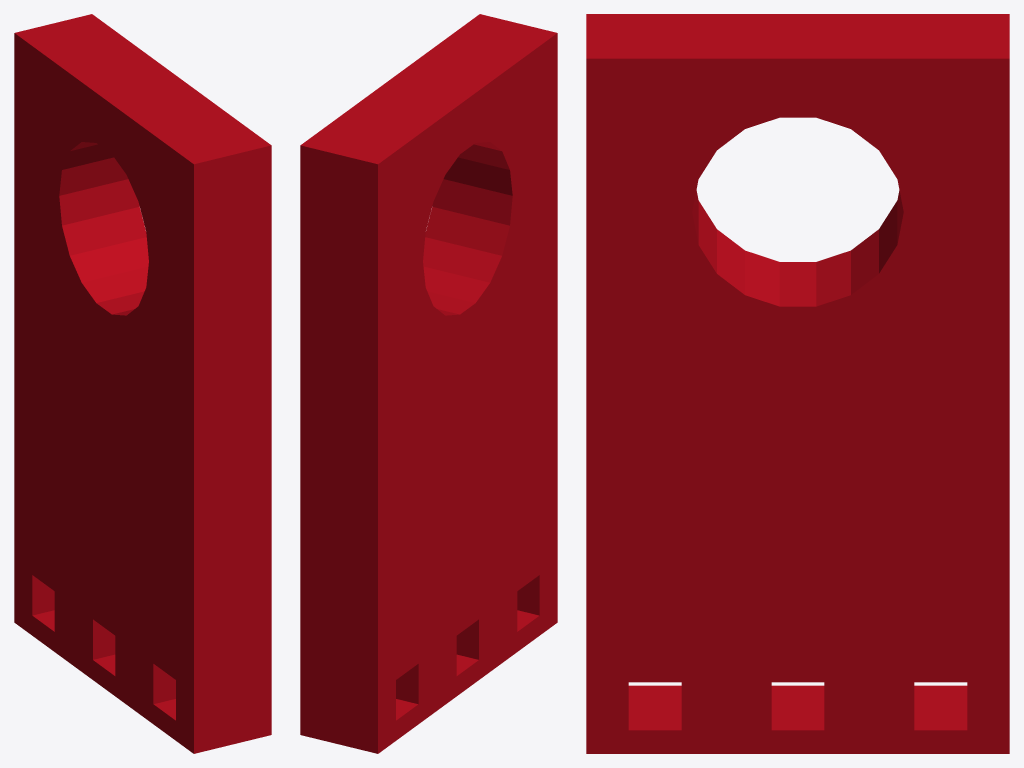
The model's file is reflectance.dae.
3 views of the same model, side by side, from view 1: azimuth 30°, elevation 25°; view 2: azimuth 150°, elevation 25°; view 3: azimuth 270°, elevation 25° (orthographic). The views are drawn at different scales.
Visible parts, largest first — view 1: 1; view 2: 1; view 3: 1.
Part boxes in pixels (bbox=[...]): 1: bbox=[14, 14, 271, 753]; 1: bbox=[300, 14, 557, 753]; 1: bbox=[586, 14, 1009, 753].
Bounding box in the file's own units: 0.002 × 0.008 × 0.0145.
